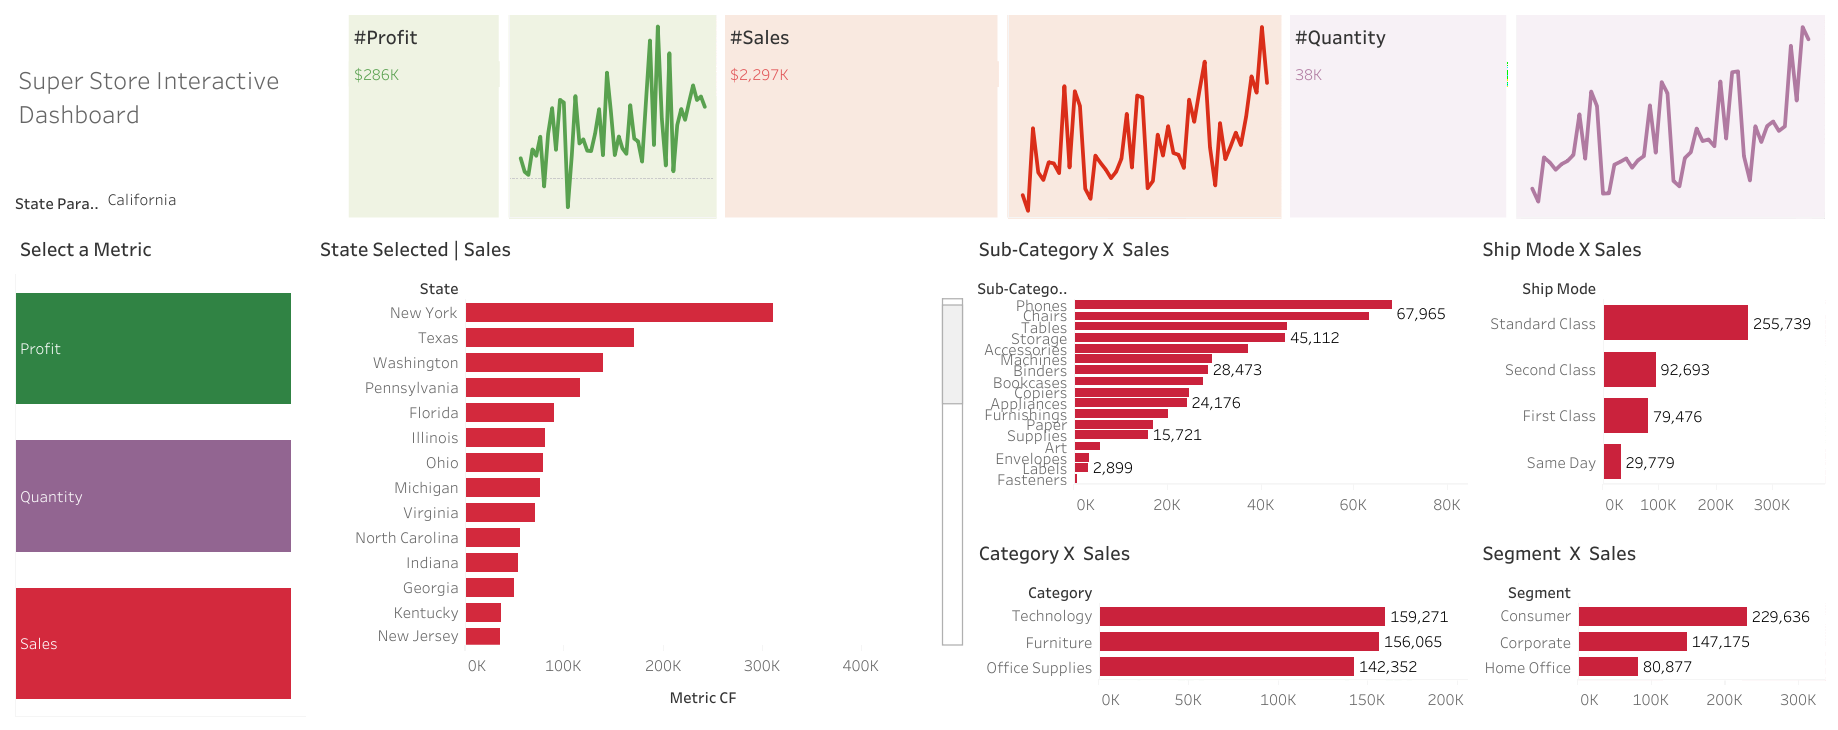

The dashboard page shown, as its layout file describes it:
{"tool":"tableau","page":{"name":"Dashboard 1","canvas":[1000,1000],"units":"permille","ordinal":0},"visuals":[{"type":"text","box":[7.3,12,180.6,238]},{"type":"worksheet","title":"#Profit","mark":"Automatic","box":[187.9,12,86.6,291.9]},{"type":"worksheet","title":"Profit","mark":"Automatic","rows":["Profit"],"cols":["Order Date"],"box":[274.5,12,157.4,291.9]},{"type":"worksheet","title":"#Sales","mark":"Automatic","box":[431.9,12,113.2,291.9]},{"type":"worksheet","title":"Sales","mark":"Automatic","rows":["Sales"],"cols":["Order Date"],"box":[545.1,12,152.7,291.9]},{"type":"worksheet","title":"#Quantity","mark":"Automatic","box":[697.9,12,123.1,291.9]},{"type":"worksheet","title":"Quantity","mark":"Automatic","rows":["Quantity"],"cols":["Order Date"],"box":[821,12,171.7,291.9]},{"type":"parameter","param":"[Parameters].[State Parameter]","box":[7.3,250,180.6,53.9]},{"type":"worksheet","title":"Select a Metric","mark":"Automatic","cols":["Calculation_137922765527552003"],"box":[7.3,303.9,162.9,684.1]},{"type":"worksheet","title":"State Selected |","mark":"Automatic","rows":["State"],"cols":["Calculation_137922765476356096"],"box":[170.2,303.9,356.6,684.1]},{"type":"worksheet","title":"Sub-Category X ","mark":"Automatic","rows":["Sub-Category"],"cols":["Calculation_137922765476356096"],"box":[526.7,303.9,273.1,416.2]},{"type":"worksheet","title":"Ship Mode X","mark":"Automatic","rows":["Ship Mode"],"cols":["Calculation_137922765476356096"],"box":[799.8,303.9,192.9,416.6]},{"type":"worksheet","title":"Category X ","mark":"Automatic","rows":["Category"],"cols":["Calculation_137922765476356096"],"box":[526.7,720.2,273.1,267.8]},{"type":"worksheet","title":"Segment  X ","mark":"Automatic","rows":["Segment"],"cols":["Calculation_137922765476356096"],"box":[799.8,720.5,192.9,267.5]}]}

Visuals, with their boxes on the dashboard's canvas, which has no fixed pixel size, in thousandths of its width and height (x1, y1, x2, y2). These are canvas units, not pixel positions in the 1838x730 screenshot, which may show the page scaled, cropped or inside an application window:
text: <box>7,12,188,250</box>
"#Profit" worksheet: <box>188,12,274,304</box>
"Profit" worksheet: <box>274,12,432,304</box>
"#Sales" worksheet: <box>432,12,545,304</box>
"Sales" worksheet: <box>545,12,698,304</box>
"#Quantity" worksheet: <box>698,12,821,304</box>
"Quantity" worksheet: <box>821,12,993,304</box>
parameter: <box>7,250,188,304</box>
"Select a Metric" worksheet: <box>7,304,170,988</box>
"State Selected |" worksheet: <box>170,304,527,988</box>
"Sub-Category X " worksheet: <box>527,304,800,720</box>
"Ship Mode X" worksheet: <box>800,304,993,720</box>
"Category X " worksheet: <box>527,720,800,988</box>
"Segment  X " worksheet: <box>800,720,993,988</box>
